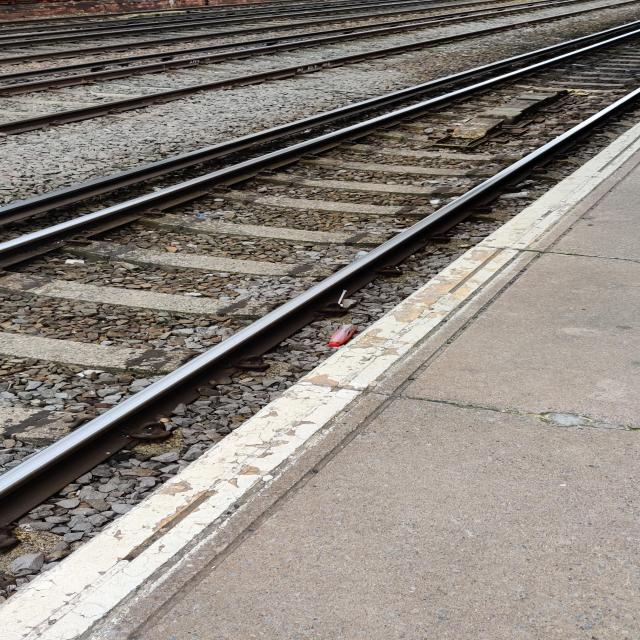litter: (328, 324, 358, 347), (499, 192, 530, 199)
